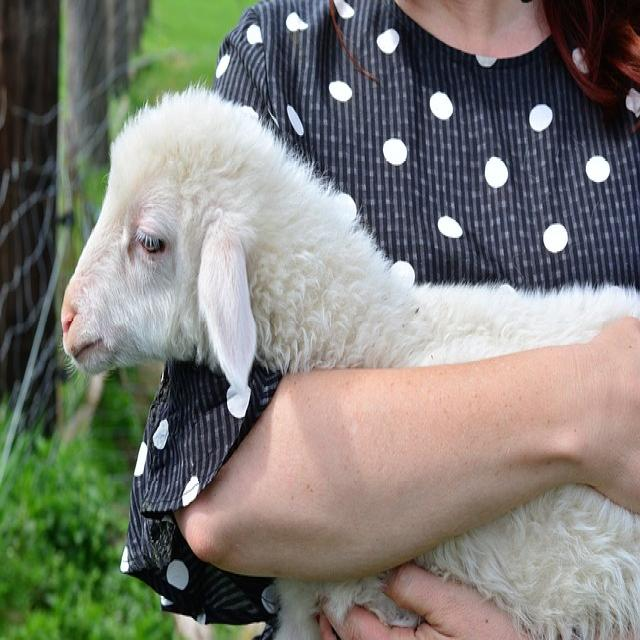sheep: (59, 81, 639, 638)
